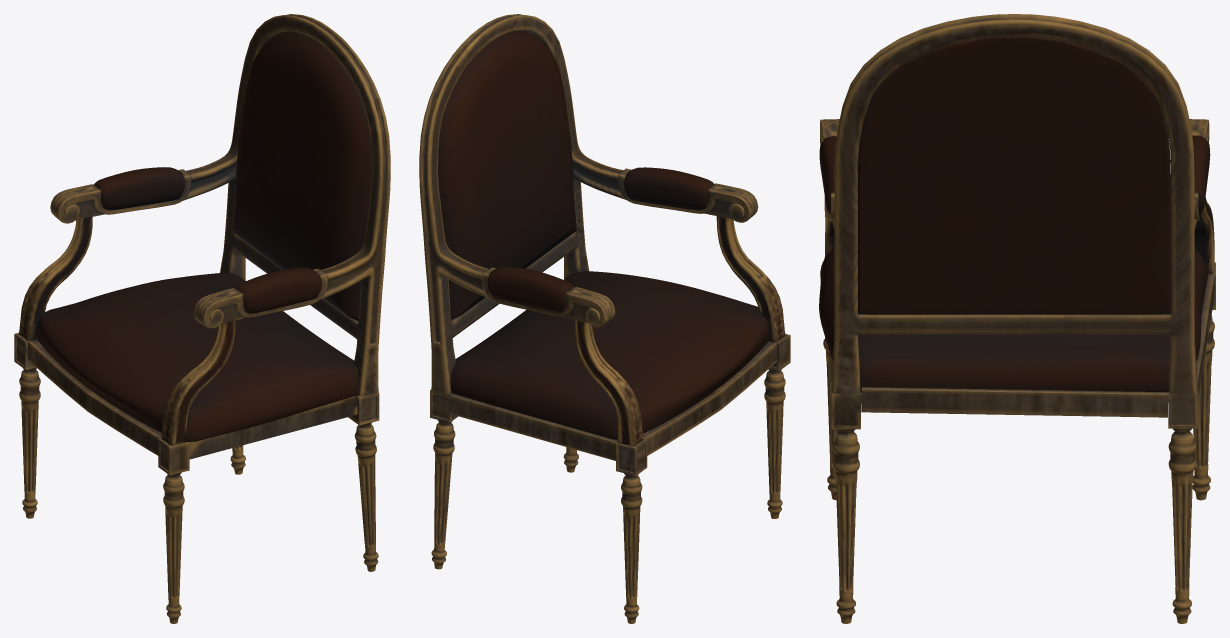
Rendered from SM_BrooklynChairSingle.fbx.
3 views of the same model, side by side, from view 1: azimuth 30°, elevation 25°; view 2: azimuth 150°, elevation 25°; view 3: azimuth 270°, elevation 25° (orthographic). The views are drawn at different scales.
Parts seen in each view (by area): view 1: SM_BrooklynChairSingle_LOD0; view 2: SM_BrooklynChairSingle_LOD0; view 3: SM_BrooklynChairSingle_LOD0.
Boxes of the visible parts, bbox=[...] form: SM_BrooklynChairSingle_LOD0: bbox=[14, 14, 390, 623]; SM_BrooklynChairSingle_LOD0: bbox=[419, 14, 790, 623]; SM_BrooklynChairSingle_LOD0: bbox=[819, 14, 1215, 623].
Size of the model in its own units: 82.79 by 91.57 by 157.
Materials: 1 (1 with a texture image).
